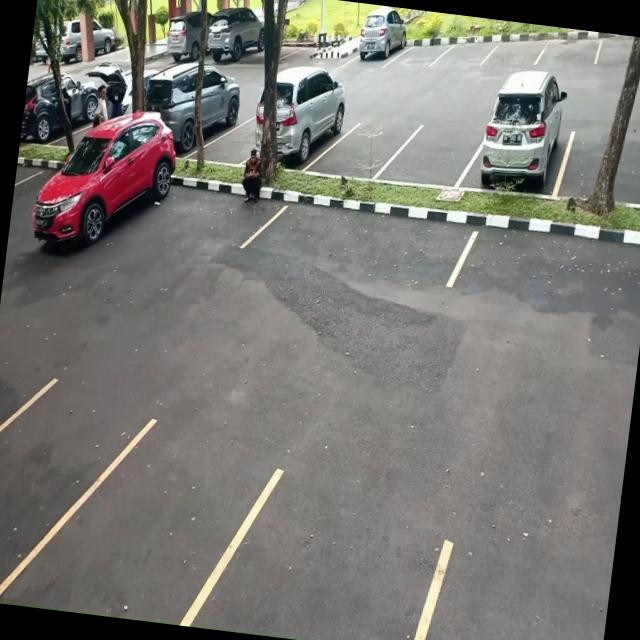car: (19, 123, 190, 263), (472, 87, 570, 200), (272, 78, 350, 177), (165, 68, 242, 158), (355, 13, 406, 70)
free: (0, 403, 265, 631), (199, 464, 459, 640), (0, 381, 124, 614), (255, 199, 472, 291), (457, 219, 640, 325), (102, 177, 264, 258), (559, 126, 640, 209), (394, 120, 482, 190), (324, 116, 404, 182), (536, 25, 600, 68), (206, 116, 254, 168), (489, 27, 546, 68), (440, 27, 492, 70), (594, 31, 640, 71), (397, 34, 444, 72)
